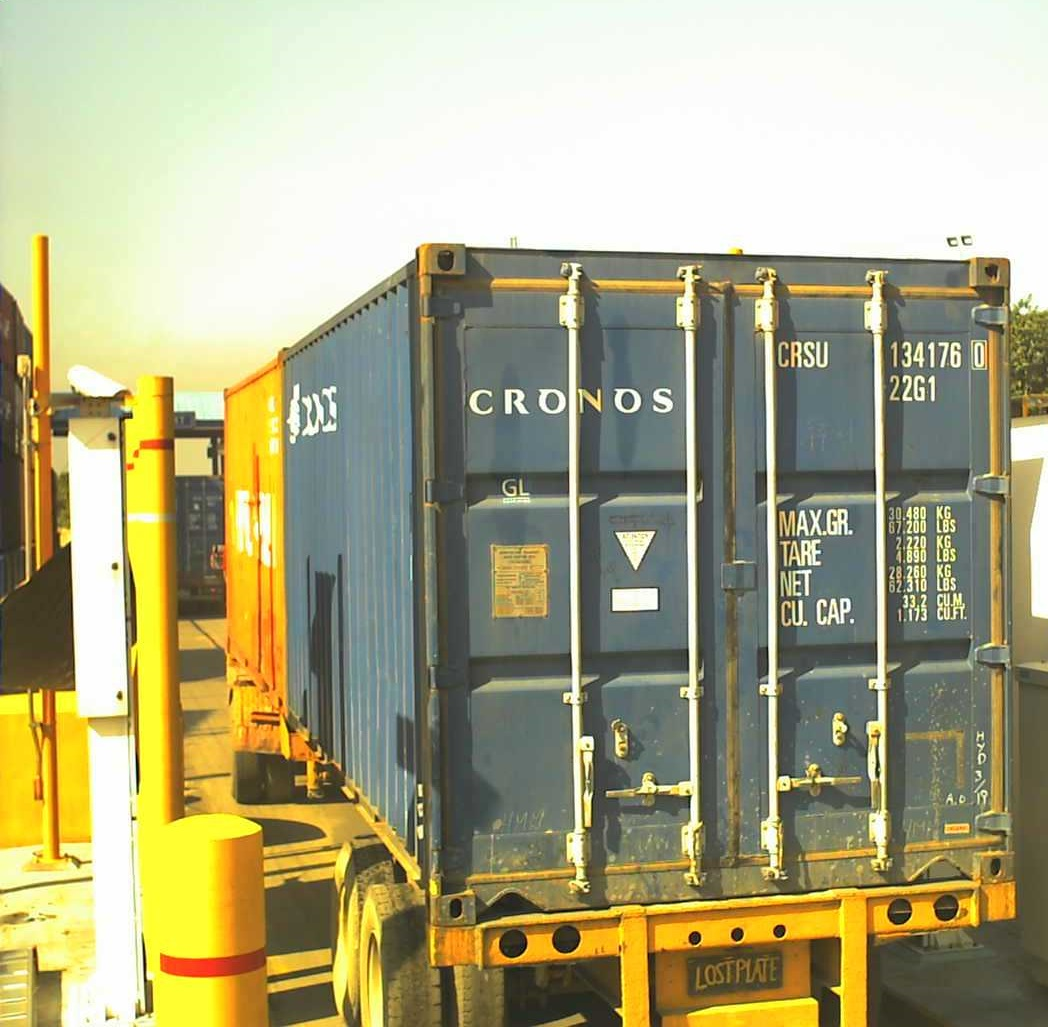container_door: (417, 244, 1011, 923)
